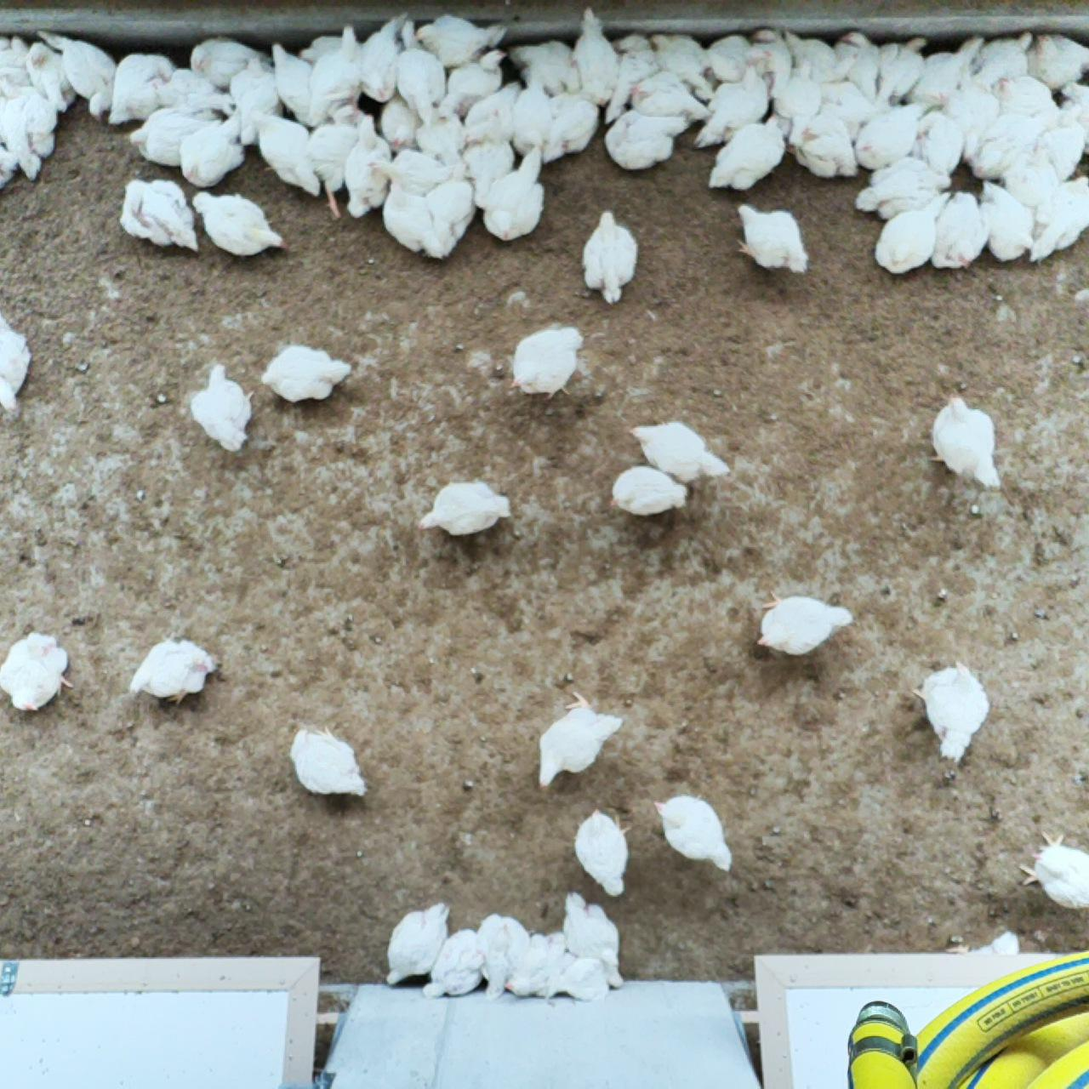chicken: (534, 687, 627, 795), (910, 657, 998, 761), (124, 631, 222, 712), (927, 390, 1004, 492), (38, 24, 117, 122), (690, 61, 770, 154), (871, 185, 951, 276), (249, 108, 327, 199), (559, 888, 627, 992), (651, 791, 736, 874), (566, 805, 638, 902), (414, 475, 519, 541), (379, 900, 455, 991), (630, 417, 733, 484), (0, 625, 76, 715), (753, 589, 854, 656), (192, 189, 290, 258), (707, 111, 789, 193), (119, 173, 201, 255), (290, 719, 371, 801), (482, 145, 548, 245), (504, 322, 586, 401), (306, 106, 362, 221), (1014, 827, 1089, 911), (852, 160, 952, 222), (0, 68, 57, 176), (190, 362, 257, 453), (260, 342, 354, 406), (734, 203, 814, 277), (580, 208, 641, 305), (125, 105, 221, 166), (906, 34, 988, 105), (227, 51, 287, 147), (1026, 173, 1089, 264), (464, 107, 518, 211), (436, 48, 510, 123), (416, 11, 510, 70), (341, 113, 391, 223), (108, 50, 176, 130), (308, 23, 362, 123), (179, 113, 247, 192), (603, 111, 691, 172), (852, 103, 929, 172), (571, 3, 621, 108), (394, 17, 449, 112), (604, 31, 658, 126), (382, 178, 446, 258), (932, 191, 993, 273), (979, 178, 1036, 265), (413, 91, 472, 175), (426, 163, 479, 253), (475, 910, 529, 998), (786, 114, 858, 179), (971, 115, 1040, 182), (425, 925, 487, 999), (361, 11, 409, 104), (505, 925, 567, 996), (540, 93, 601, 165), (651, 31, 716, 98), (946, 90, 1004, 165), (608, 463, 690, 516), (23, 39, 80, 113), (629, 70, 709, 122), (187, 34, 271, 83), (783, 29, 854, 85), (267, 41, 313, 123), (152, 65, 234, 111), (509, 82, 557, 160), (511, 39, 580, 92), (366, 147, 449, 191), (994, 73, 1060, 127), (744, 27, 794, 98), (699, 32, 770, 82), (999, 143, 1061, 200), (878, 34, 926, 107), (545, 953, 614, 1003), (976, 30, 1035, 88), (0, 308, 32, 413), (1028, 31, 1089, 84), (770, 72, 824, 130), (834, 30, 877, 100), (919, 111, 965, 173), (1042, 113, 1083, 182), (823, 80, 873, 130), (380, 93, 420, 150), (1058, 80, 1089, 142), (0, 31, 33, 84), (299, 27, 344, 65), (937, 83, 985, 106)
